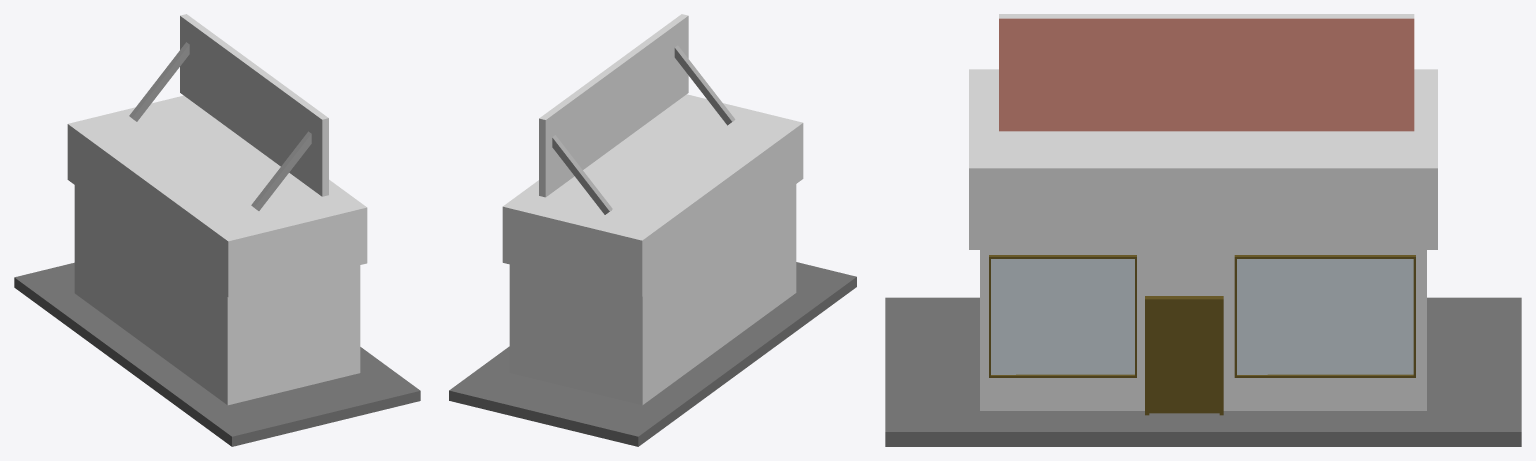
Rendered from build01.fbx.
3 views of the same model, side by side, from view 1: azimuth 30°, elevation 25°; view 2: azimuth 150°, elevation 25°; view 3: azimuth 270°, elevation 25° (orthographic). The views are drawn at different scales.
Parts seen in each view (by area): view 1: build02; view 2: build02; view 3: build02.
Boxes of the visible parts, x1,y1,x2,y2 form: build02: [14, 14, 420, 446]; build02: [449, 14, 856, 446]; build02: [885, 14, 1521, 446].
Size of the model in its own units: 2.71 by 3.67 by 5.42.
